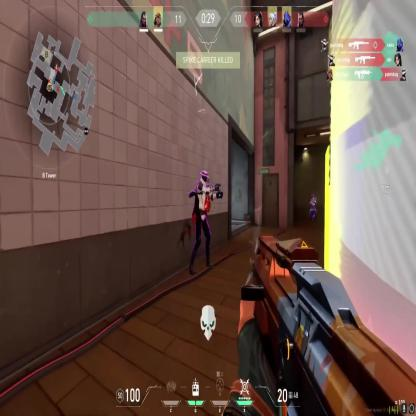enemy: (309, 194, 317, 220)
enemy_head: (200, 168, 209, 185), (312, 194, 314, 200)
